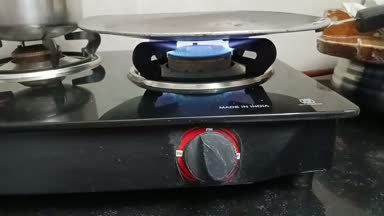flame_gas_on: (124, 37, 293, 186)
